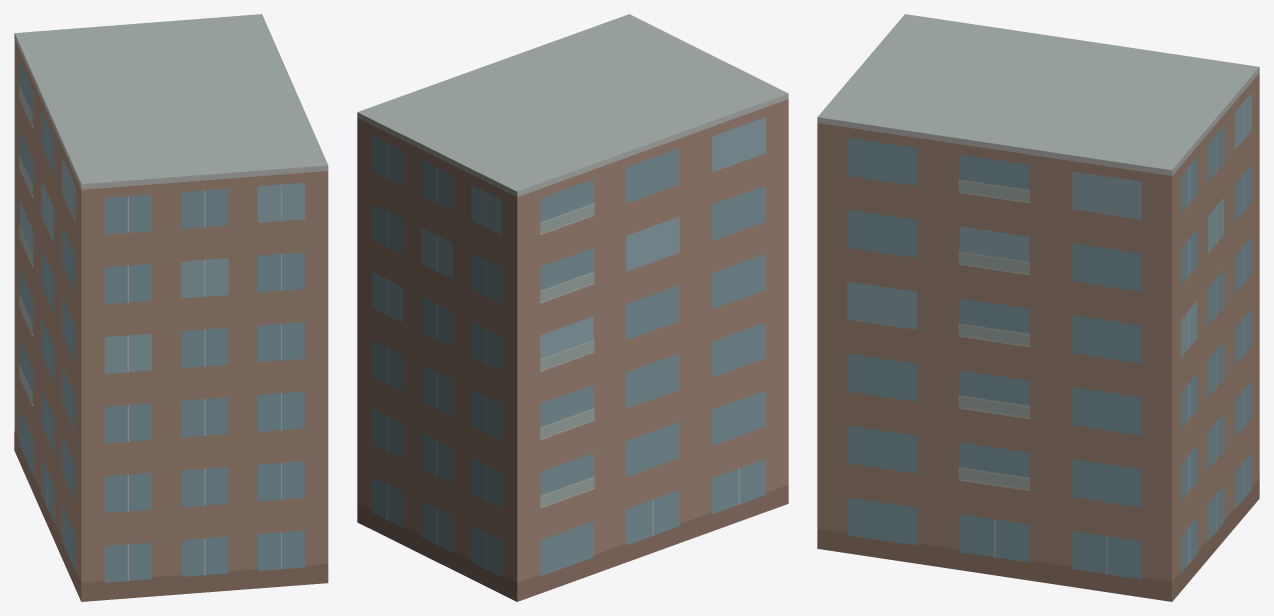
File: survey-upis-32854300.glb
3 views of the same model, side by side, from view 1: azimuth 30°, elevation 25°; view 2: azimuth 150°, elevation 25°; view 3: azimuth 270°, elevation 25° (orthographic). The views are drawn at different scales.
Visible parts, largest first — view 1: survey-upis-32854300.tmp; view 2: survey-upis-32854300.tmp; view 3: survey-upis-32854300.tmp.
Boxes of the visible parts, <box> form: survey-upis-32854300.tmp: <box>14,14,328,601</box>; survey-upis-32854300.tmp: <box>357,14,788,601</box>; survey-upis-32854300.tmp: <box>817,14,1259,601</box>.
Size of the model in its own units: 14.19 by 18.25 by 16.96.
